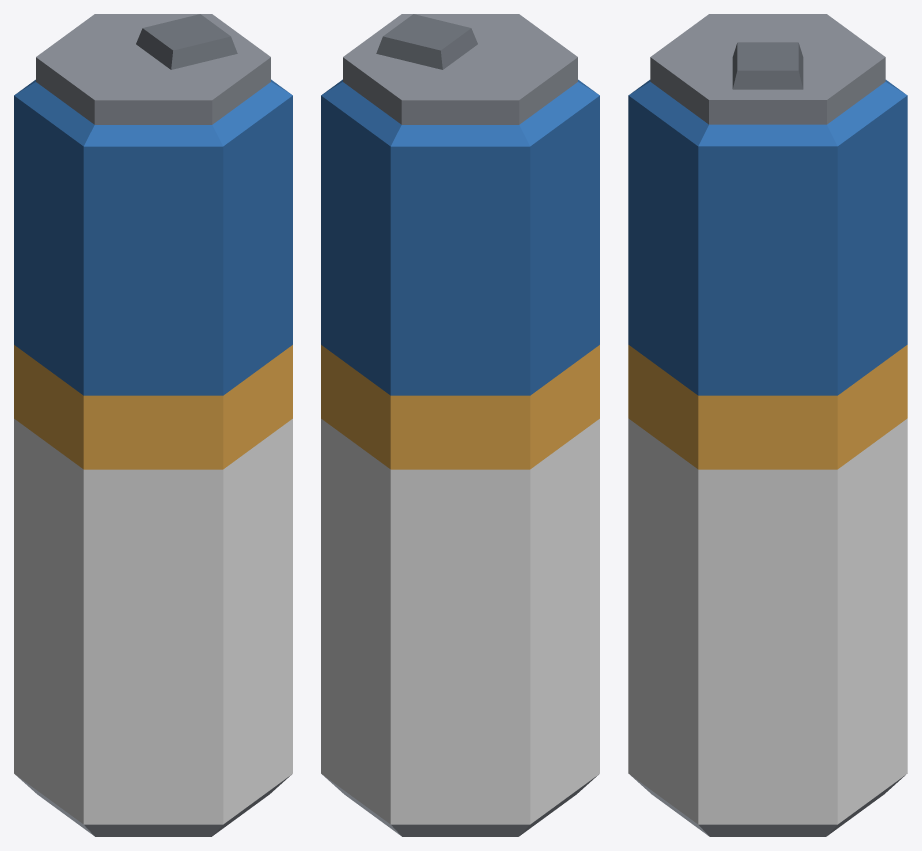
Rendered from Bottle.obj.
3 renders of one model, left to right at view 1: azimuth 30°, elevation 25°; view 2: azimuth 150°, elevation 25°; view 3: azimuth 270°, elevation 25°, orthographic.
Bounding box in the file's own units: 0.0697 × 0.24 × 0.0805.
Materials: 1 (1 with a texture image).
